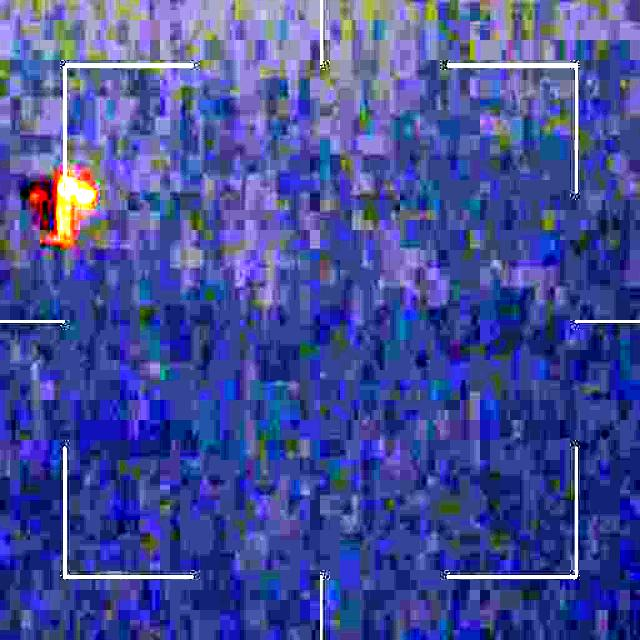bird: (22, 170, 100, 244)
